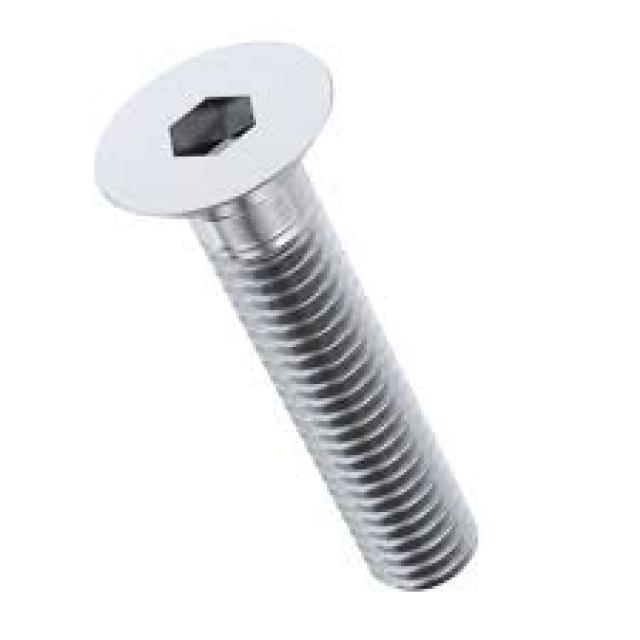Screw: (91, 43, 481, 594)
